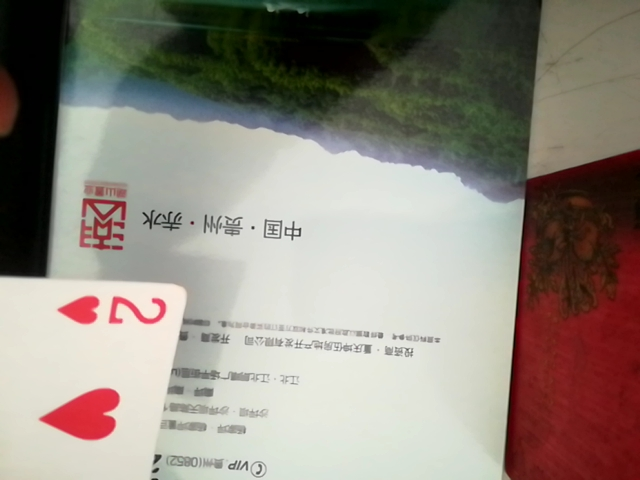hx 2: (0, 266, 194, 478)
